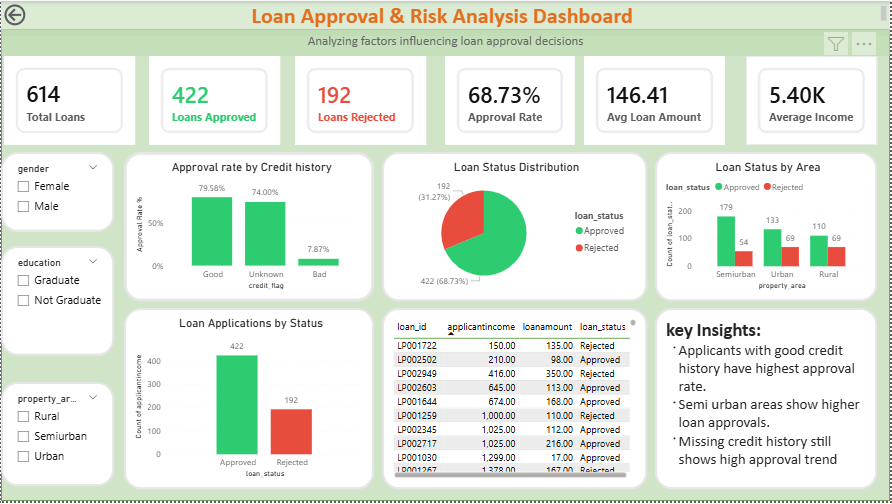

Layout of this report page (visuals, bound fields, positions):
{"tool":"powerbi","page":{"name":"Page 1","canvas":[1280,720],"ordinal":0},"visuals":[{"type":"shape","box":[0,40.3,1280.2,679.7],"z":0},{"type":"textbox","box":[0,0,1280.2,50.4],"z":1000},{"type":"slicer","fields":{"Values":["public loan_data.gender"]},"box":[0,217.4,162.7,115.2],"z":2000},{"type":"slicer","fields":{"Values":["public loan_data.education"]},"box":[0,352.8,162.7,158.4],"z":3000},{"type":"slicer","fields":{"Values":["public loan_data.property_area"]},"box":[0,548.6,162.7,149.8],"z":4000},{"type":"cardVisual","title":"Total Loans","fields":{"Data":["loan_data.Total Loans"]},"box":[4.3,79.2,188.6,128.2],"z":5000},{"type":"cardVisual","fields":{"Data":["loan_data.Loans Approved"]},"box":[213.1,79.2,188.6,128.2],"z":6000},{"type":"cardVisual","fields":{"Data":["loan_data.Loans Rejected"]},"box":[423.4,79.2,188.6,128.2],"z":7000},{"type":"cardVisual","fields":{"Data":["loan_data.Approval Rate"]},"box":[639.4,79.2,187.2,128.2],"z":8000},{"type":"columnChart","title":"Approval rate by Credit history","fields":{"Category":["loan_data.credit_flag"],"Y":["loan_data.Approval Rate%"]},"box":[177.1,217.4,360,214.6],"z":9000},{"type":"pieChart","title":"Loan Status Distribution","fields":{"Y":["CountNonNull(loan_data.loan_status)"],"Category":["loan_data.loan_status"]},"box":[548.6,217.4,381.6,214.6],"z":10000},{"type":"clusteredColumnChart","title":"Loan Status by Area","fields":{"Category":["loan_data.property_area"],"Y":["CountNonNull(loan_data.loan_status)"],"Series":["loan_data.loan_status"]},"box":[941.8,217.4,319.7,214.6],"z":11000},{"type":"tableEx","fields":{"Values":["loan_data.loan_id","loan_data.applicantincome","loan_data.loanamount","loan_data.loan_status"]},"box":[548.6,442.1,381.6,260.6],"z":12000},{"type":"cardVisual","fields":{"Data":["loan_data.Average Income"]},"box":[1072.8,79.2,188.6,128.2],"z":13000},{"type":"actionButton","box":[0,0,100,40],"z":14000},{"type":"columnChart","title":"Loan Applications by Status","fields":{"Category":["loan_data.loan_status"],"Y":["CountNonNull(loan_data.applicantincome)"]},"box":[177.1,442.1,360,260.6],"z":15000},{"type":"textbox","box":[941.8,442.1,319.7,260.6],"z":16000},{"type":"cardVisual","fields":{"Data":["loan_data.Avg Loan Amount"]},"box":[839.5,79.2,203,128.2],"z":16001},{"type":"textbox","box":[0,40.3,1280.2,38.9],"z":16002}]}

Visuals, with their boxes in screenshot pixels (x1, y1, x2, y2), scaled from the page's 1280x720 canvas onto the 892x504 screenshot:
shape: region(0, 28, 891, 503)
textbox: region(0, 0, 891, 35)
slicer - public loan_data.gender: region(0, 152, 113, 233)
slicer - public loan_data.education: region(0, 247, 113, 358)
slicer - public loan_data.property_area: region(0, 384, 113, 489)
"Total Loans" cardVisual: region(3, 55, 134, 145)
cardVisual - loan_data.Loans Approved: region(149, 55, 280, 145)
cardVisual - loan_data.Loans Rejected: region(295, 55, 426, 145)
cardVisual - loan_data.Approval Rate: region(446, 55, 576, 145)
"Approval rate by Credit history" columnChart: region(123, 152, 374, 302)
"Loan Status Distribution" pieChart: region(382, 152, 648, 302)
"Loan Status by Area" clusteredColumnChart: region(656, 152, 879, 302)
tableEx - loan_data.loan_id x loan_data.applicantincome: region(382, 309, 648, 492)
cardVisual - loan_data.Average Income: region(748, 55, 879, 145)
actionButton: region(0, 0, 70, 28)
"Loan Applications by Status" columnChart: region(123, 309, 374, 492)
textbox: region(656, 309, 879, 492)
cardVisual - loan_data.Avg Loan Amount: region(585, 55, 726, 145)
textbox: region(0, 28, 891, 55)
